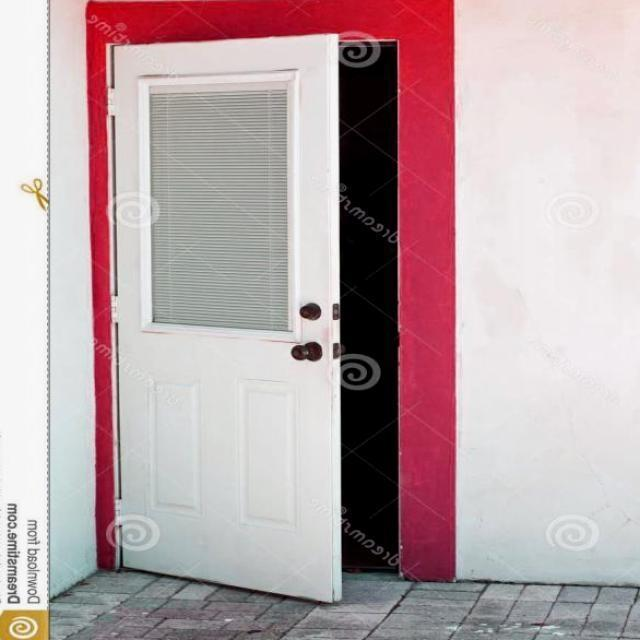door: (108, 32, 343, 603)
